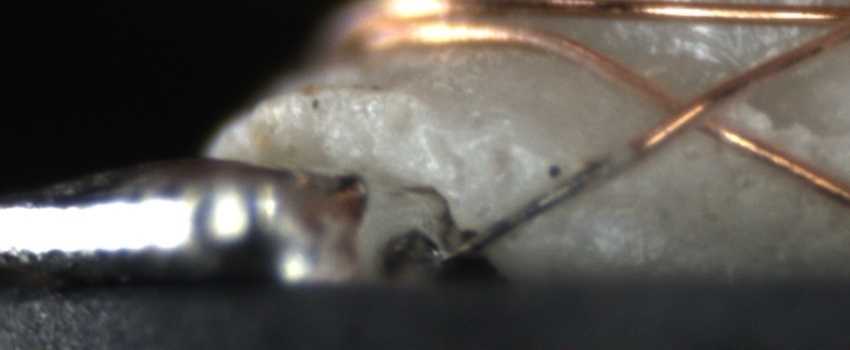CL: (652, 80, 737, 143)
TS: (432, 145, 637, 271)
TTCW: (434, 106, 690, 267)
